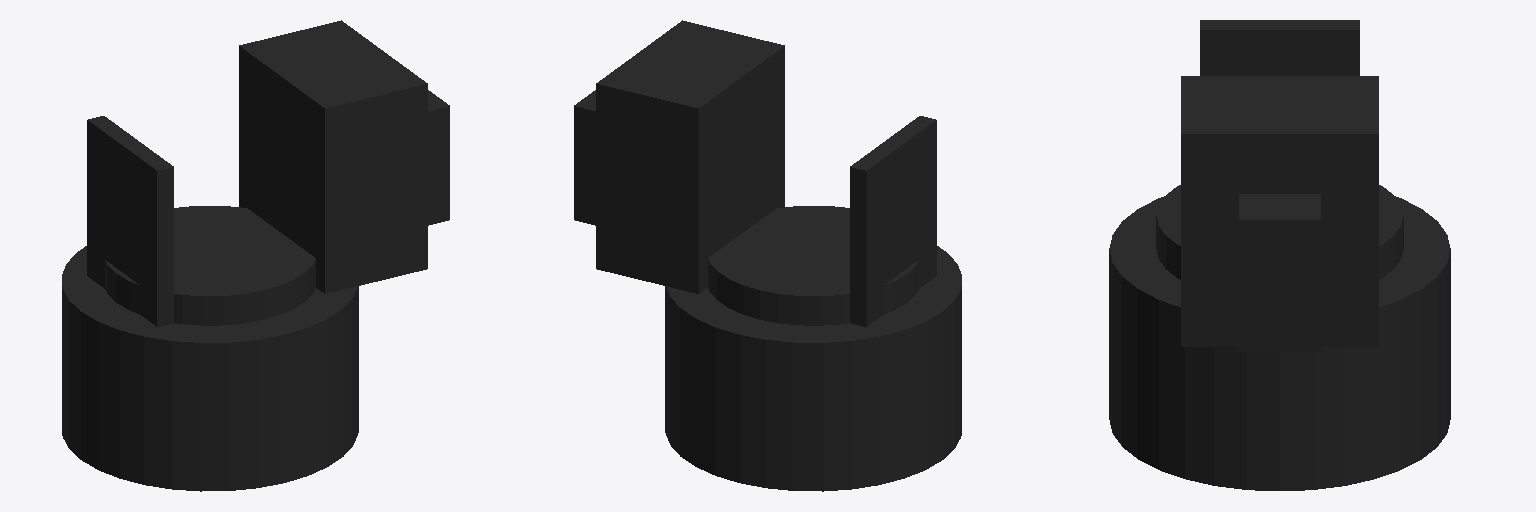
URDF robot description (multipleshapes):
<?xml version="1.0"?>
<robot name="multipleshapes">

  <material name="plastic">
    <color rgba="0.2 0.2 0.2 1"/>
  </material>

  <material name="aluminum">
    <color rgba="1 1 1 1"/>
  </material>

  <link name="waist">
    <visual>
      <geometry>
        <cylinder length="0.076" radius="0.069"/>
      </geometry>
      <origin xyz="0 0 0.038"/>
      <material name="plastic"/>
    </visual>
  </link>

  <link name="shoulder">

    <!-- Floor -->
    <visual>
      <geometry>
        <cylinder length="0.015" radius="0.05"/>
      </geometry>
      <origin xyz="0 0 0.0075"/>
      <material name="plastic"/>
    </visual>

    <!-- Motor side of shoulder -->
    <visual>
      <geometry>
        <box size="0.055 0.08 0.095"/>
      </geometry>
      <origin xyz="0.066 0 0.0475"/>
      <material name="plastic"/>
    </visual>

    <!-- Bearing side of shoulder -->
    <visual>
      <geometry>
        <box size="0.009 0.065 0.08"/>
      </geometry>
      <origin xyz="-0.0425 0 0.04"/>
      <material name="plastic"/>
    </visual>

    <!-- Motor -->
    <visual>
      <geometry>
        <box size="0.044 0.0335 0.0585"/>
      </geometry>
      <origin xyz="0.097 0 0.039"/>
      <material name="plastic"/>
    </visual>
  </link>

  <joint name="waist_joint" type="fixed">
    <parent link="waist"/>
    <child link="shoulder"/>
    <origin xyz="0 0 0.076"/>
  </joint>

</robot>

--- Render facts (derived) ---
3 views of the same robot in one strip: view 1: azimuth 30°, elevation 25°; view 2: azimuth 150°, elevation 25°; view 3: azimuth 270°, elevation 25° (orthographic).
Robot: multipleshapes — 2 links, 1 joints (1 fixed); root link waist; default pose: all joints at 0.
Visible links, largest first — view 1: shoulder, waist; view 2: shoulder, waist; view 3: shoulder, waist.
Boxes of the visible links, x1,y1,x2,y2 form: shoulder: (87,20,449,326); waist: (62,246,358,491); shoulder: (574,20,936,326); waist: (665,246,961,491); shoulder: (1156,20,1403,351); waist: (1109,196,1450,490).
Size in the robot's own frame: 0.188 by 0.138 by 0.171 metres.
Geometry: primitives only (box / cylinder / sphere), no mesh files.
